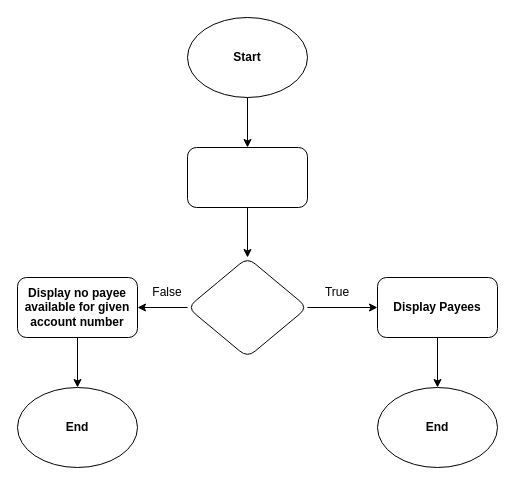
Image size: 515x485. Some labels were removed from this diagram. Each missing label, with the centre of its shape:
Enter the Account Number: (247,177)
Is Payee Available?: (247,307)
